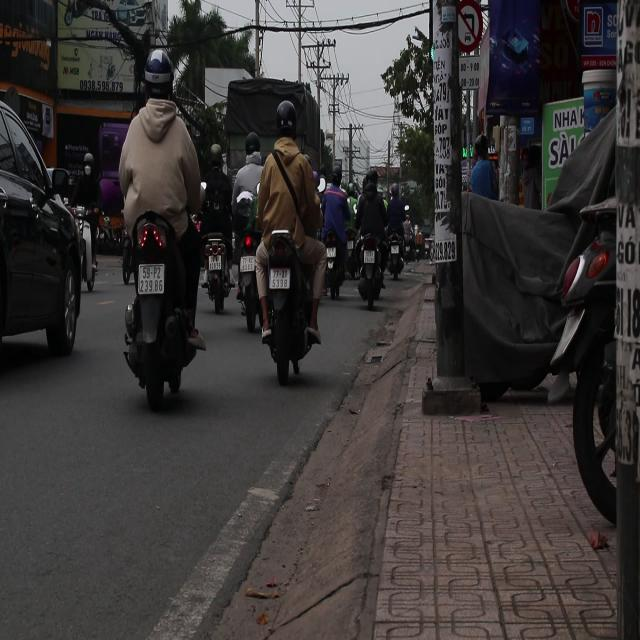car: (2, 92, 86, 366)
motorbike: (122, 205, 198, 388), (256, 225, 318, 383), (199, 232, 235, 313), (355, 236, 386, 309), (387, 236, 408, 281)
